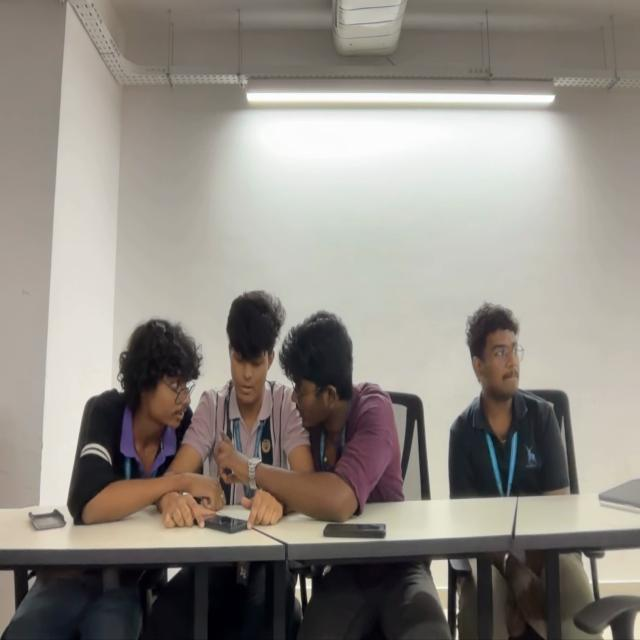Isolated: (444, 296, 570, 494)
socializing: (68, 288, 408, 524)
